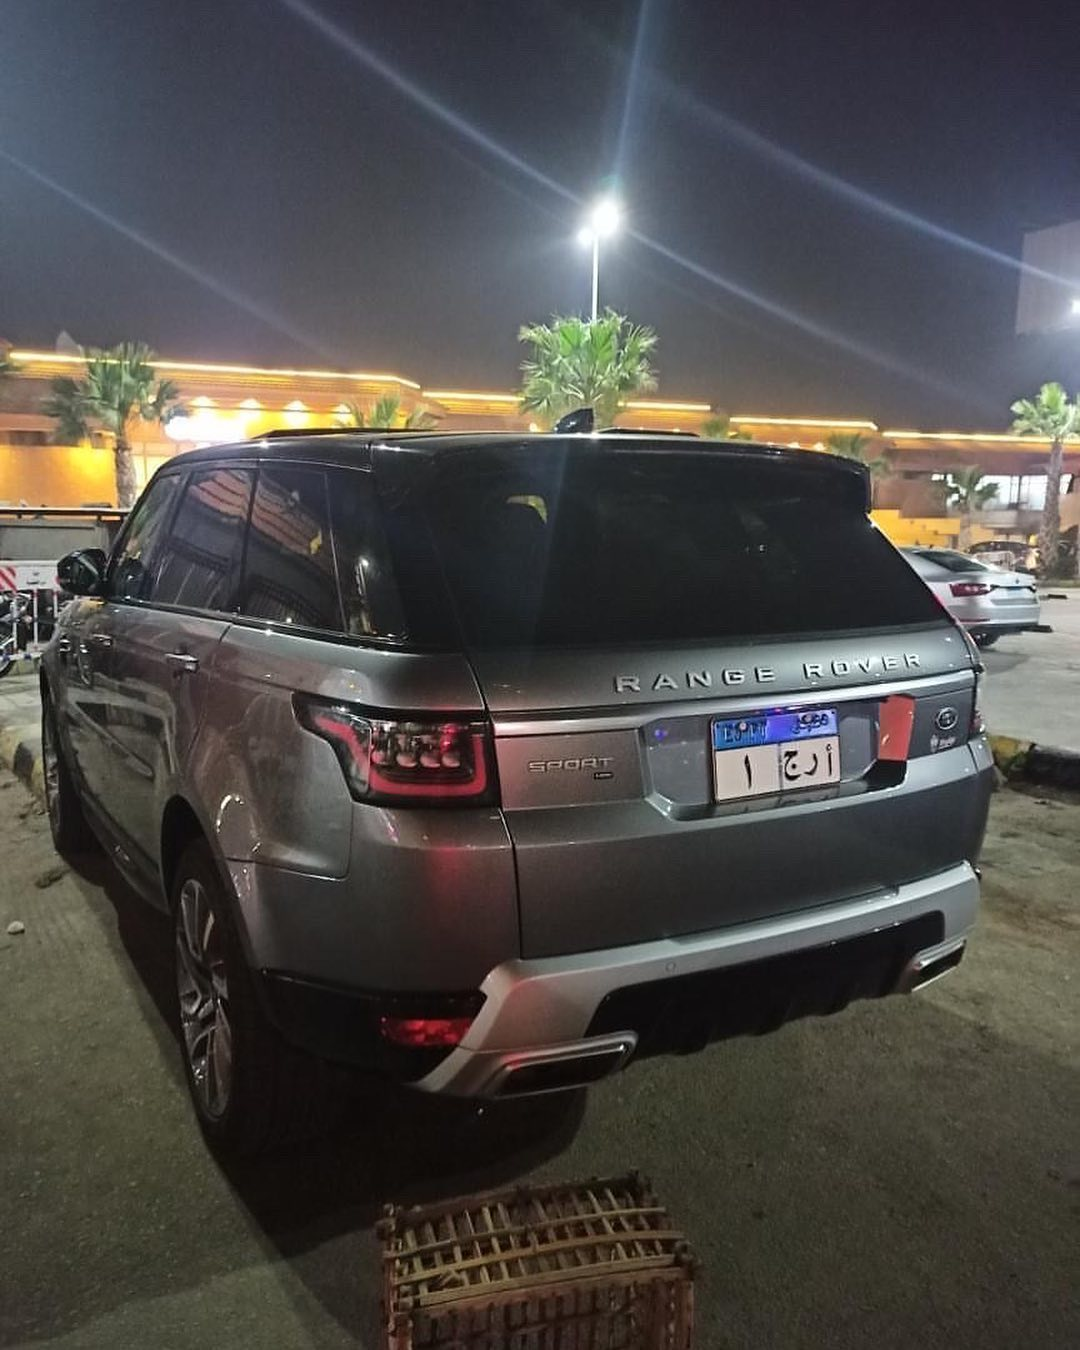carpl: (704, 715, 842, 794)
